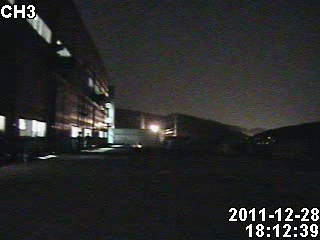fire: (127, 138, 148, 151)
